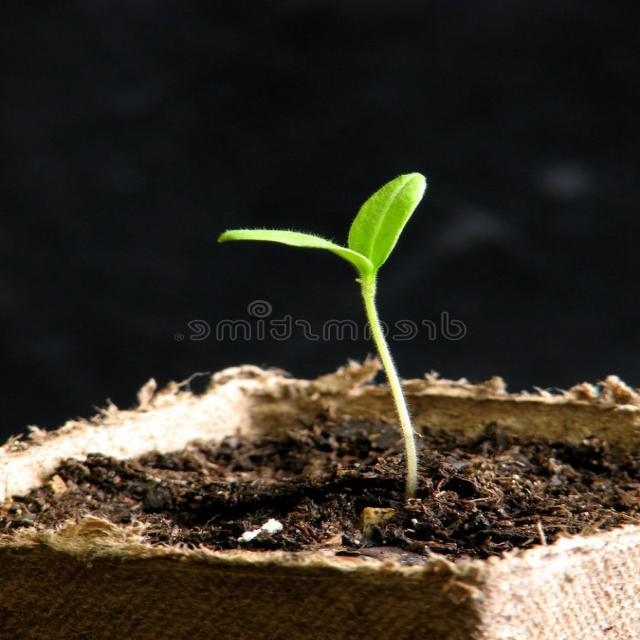tomato: (219, 173, 426, 499)
